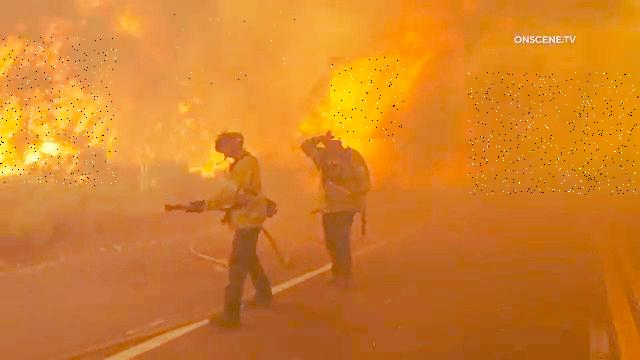fire: (0, 37, 117, 186), (331, 58, 405, 143)
smoke: (469, 72, 640, 195), (166, 9, 302, 85)
